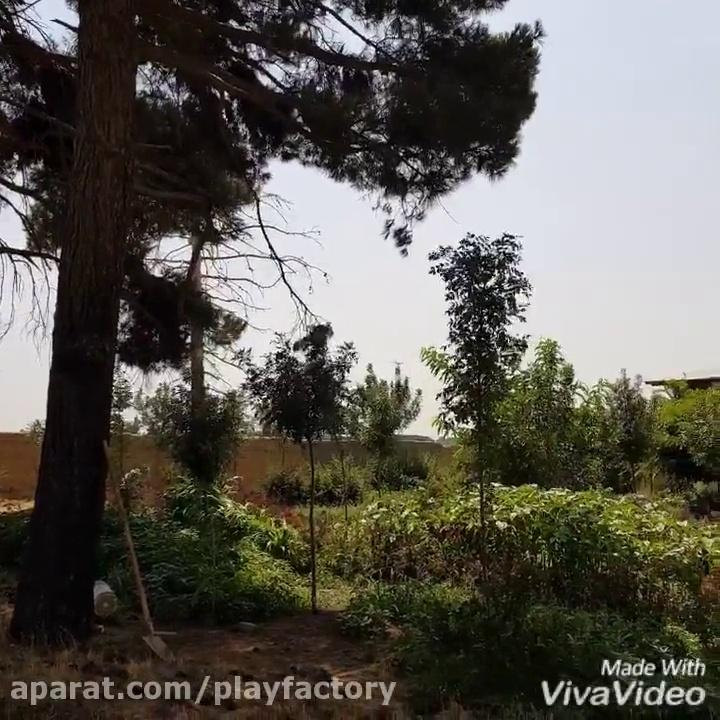drone: (393, 355, 405, 366)
